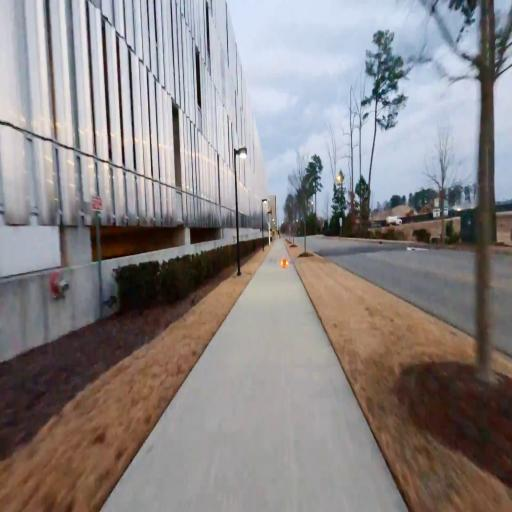uav: (277, 256, 297, 273)
